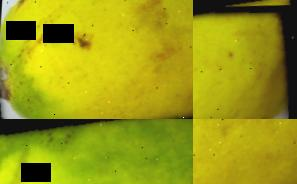PartiallyRipe: (0, 119, 193, 184)
Ripe: (0, 0, 193, 119), (193, 0, 297, 119), (193, 119, 297, 184)
